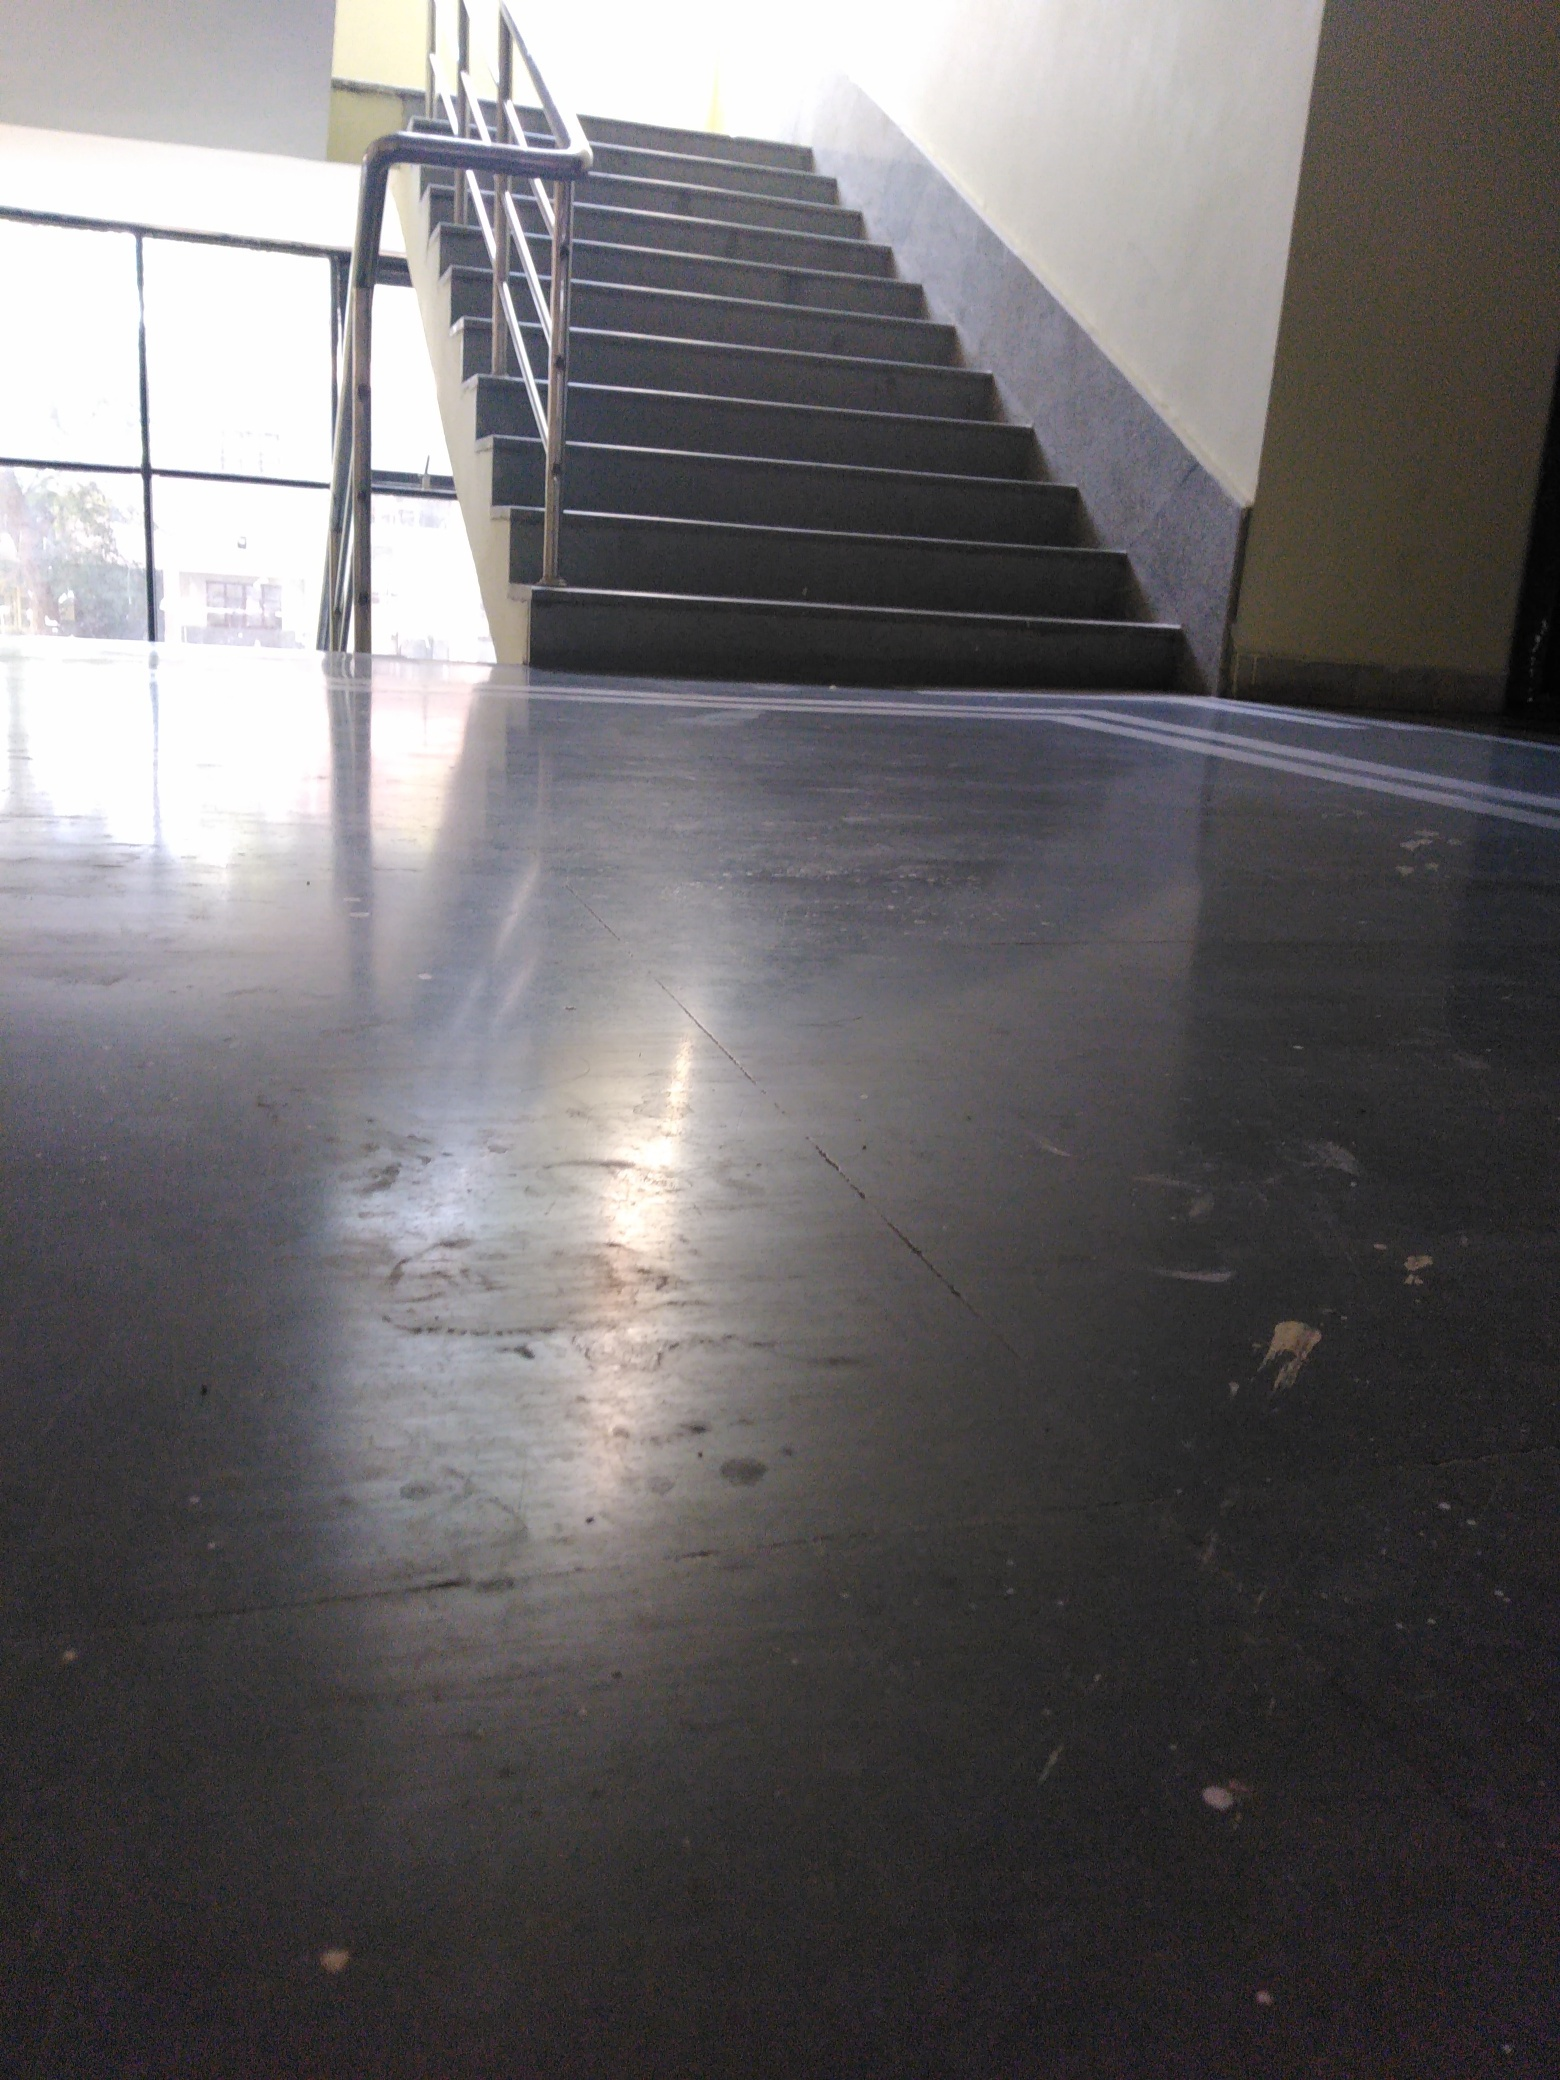stairs_up: (411, 106, 1199, 717)
